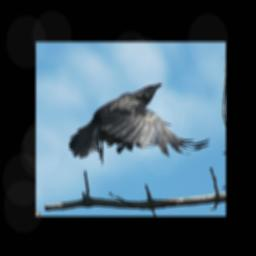Crow: (70, 81, 213, 167)
